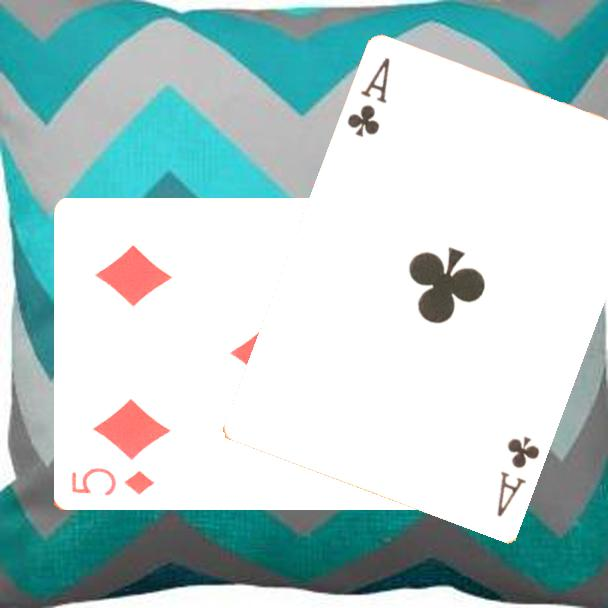c01: (343, 54, 394, 141), (493, 433, 543, 520)
d05: (67, 465, 156, 500)
